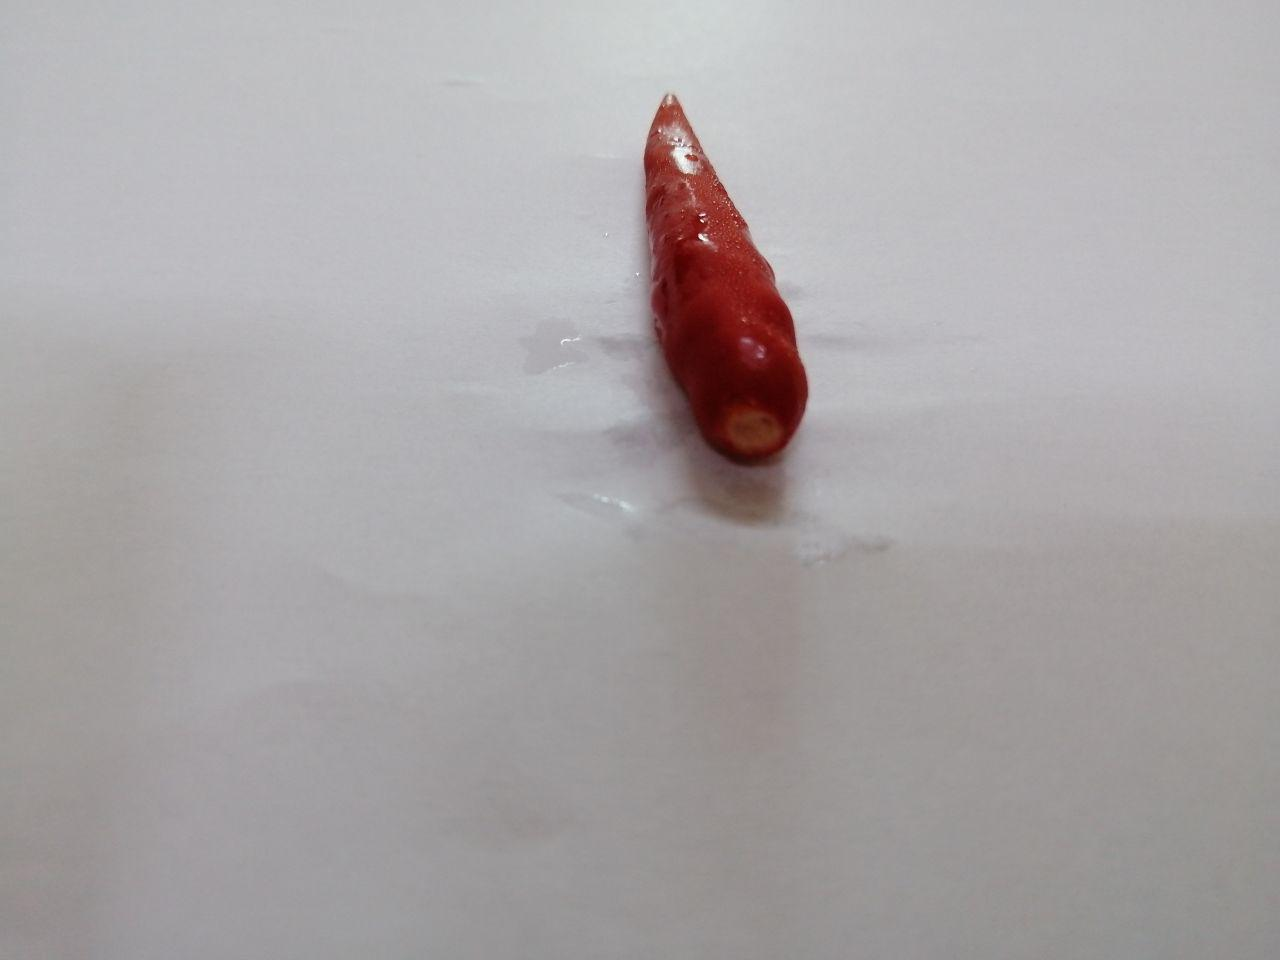lada merah: (618, 75, 843, 503)
